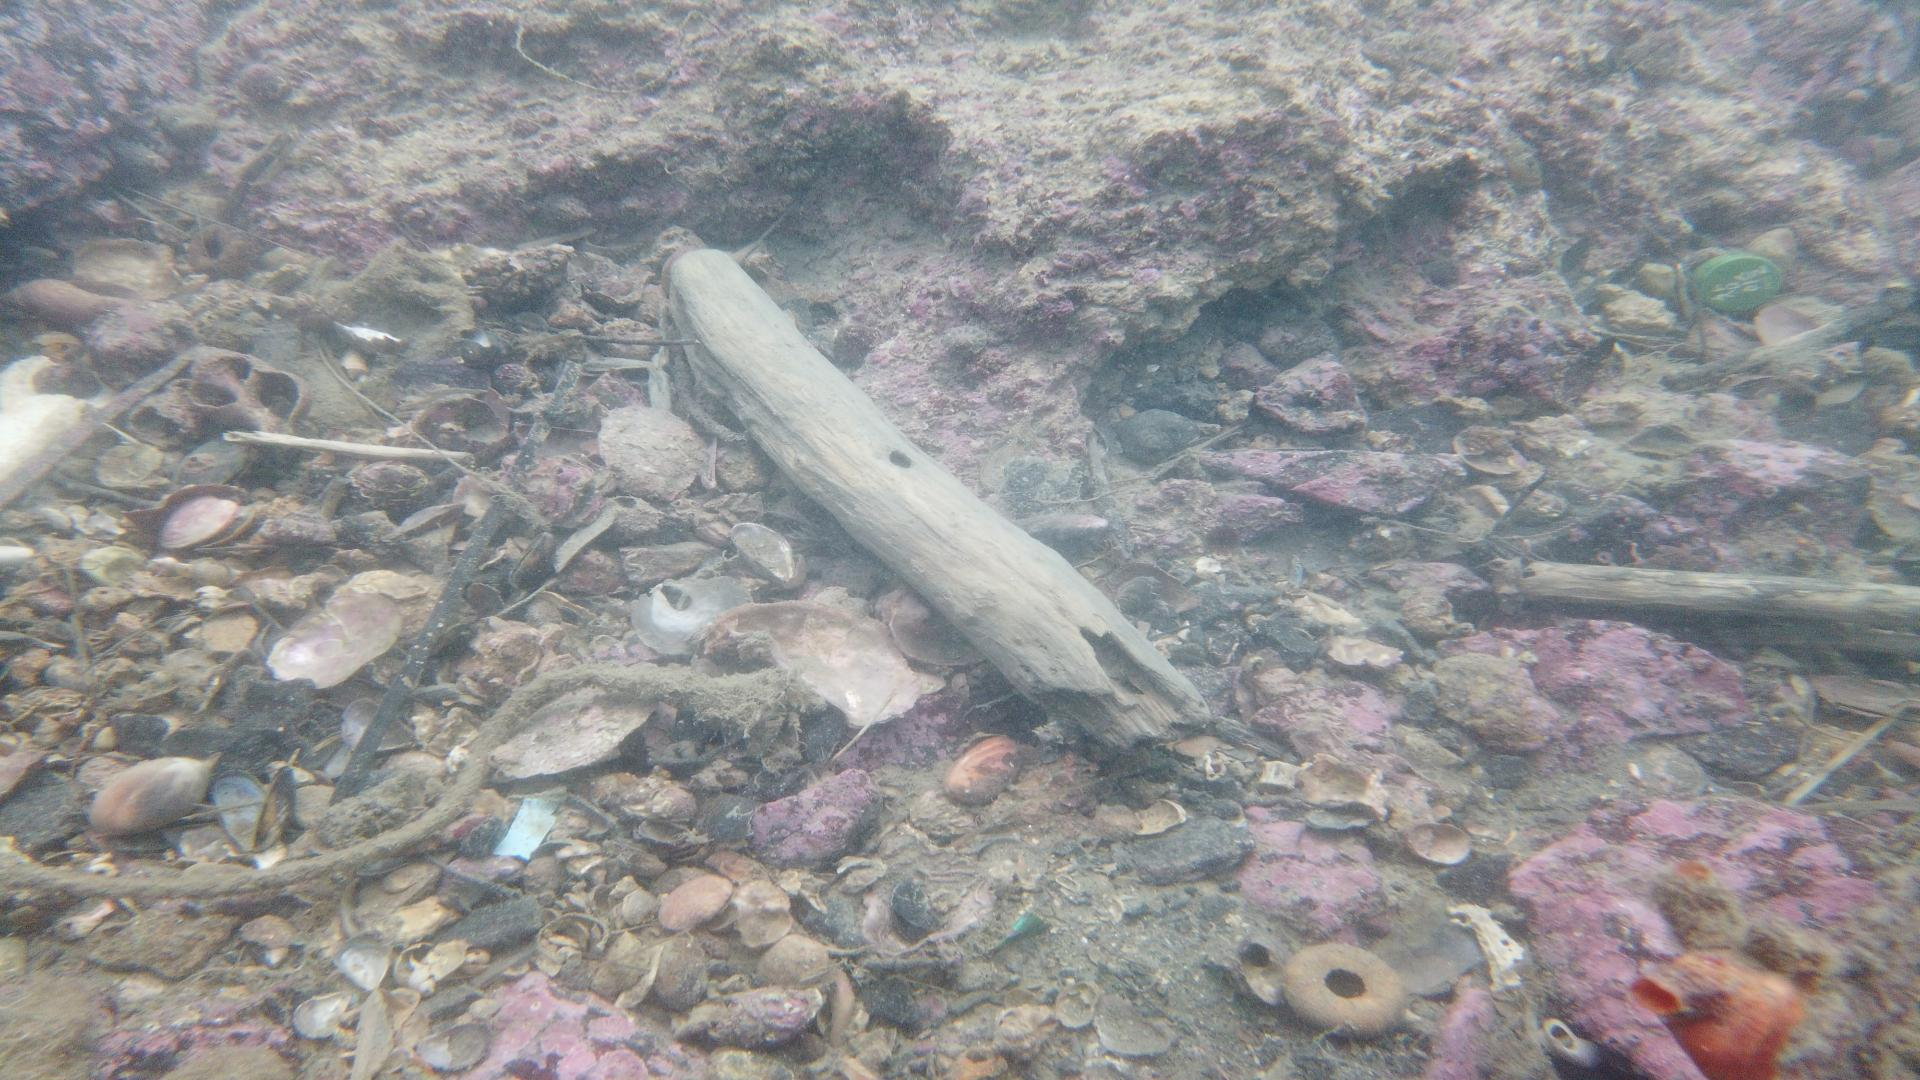rope: (0, 659, 775, 901)
wood: (667, 247, 1212, 754), (1516, 559, 1920, 628)
